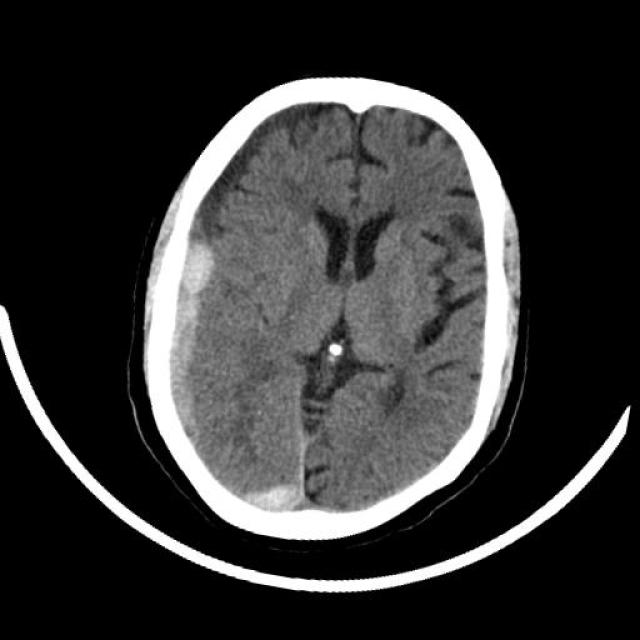Subdural: (103, 222, 249, 488), (210, 468, 310, 538)
